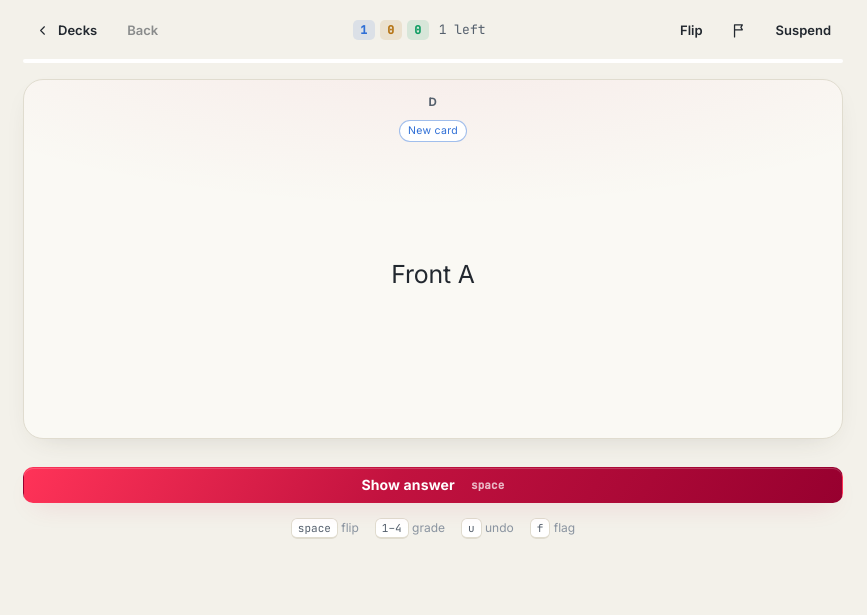
Test: the one-minute card comes back inside the session › does not bring it back early
The image size is (867, 615).
Click the button "Show answer space" at (433,485), box [23, 467, 843, 503]
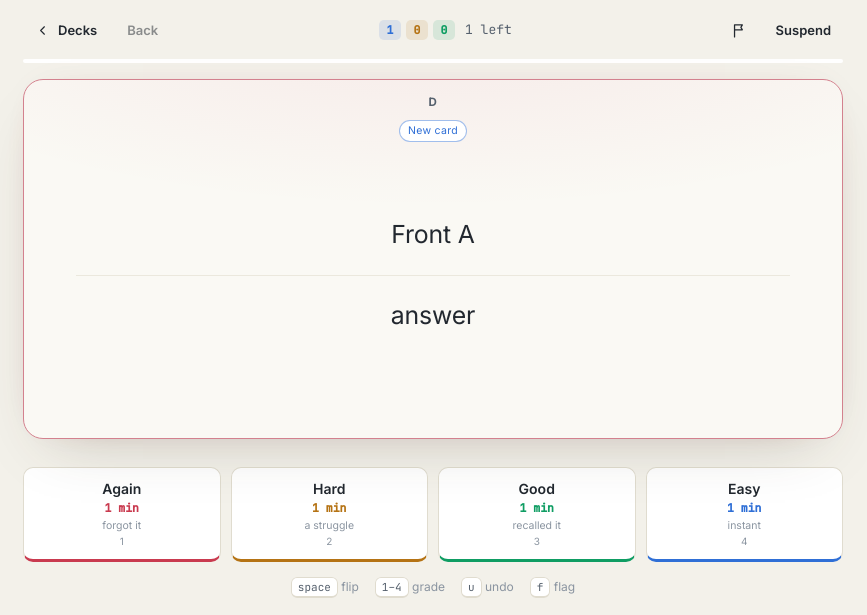
Click the text "Again" at (122,488), box [102, 480, 141, 497]
Wait 30000 ms
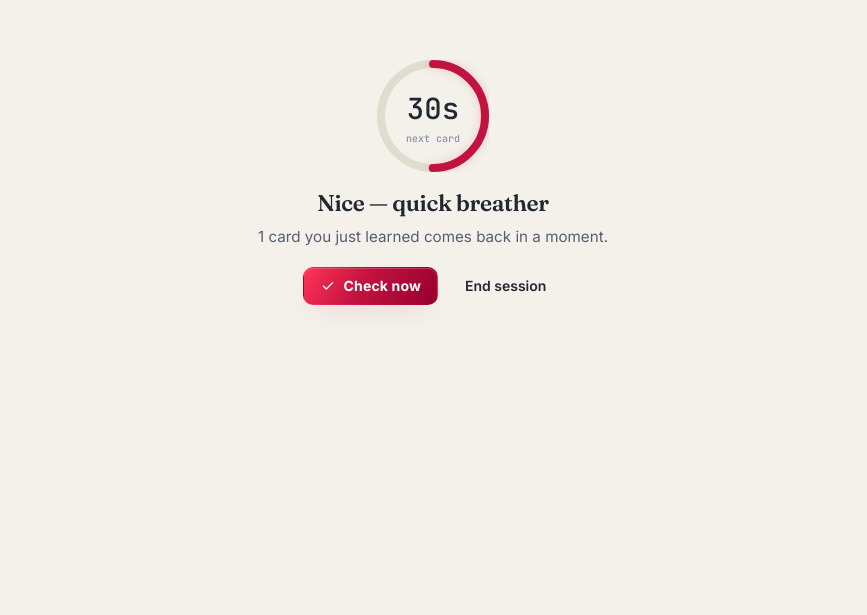
Now the text "Front A" is gone
Now the heading "Nice — quick breather" is shown, box [317, 189, 549, 217]
